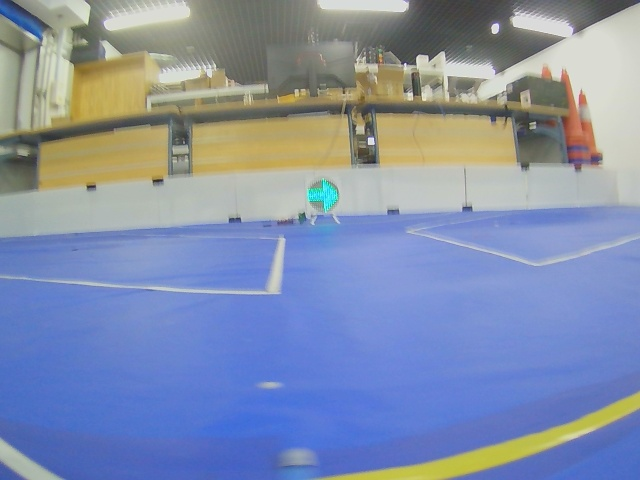right_green: (307, 178, 339, 213)
